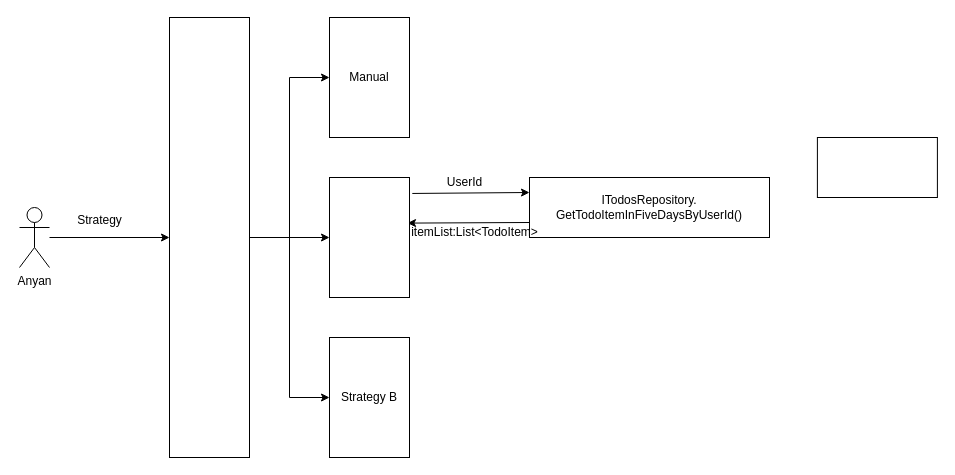
This 955x475 diagram has some shape labels left out. Each missing label, with the box of its shape:
Strategy A: (328, 176, 410, 298)
TodoService. Create(): (168, 16, 250, 458)
